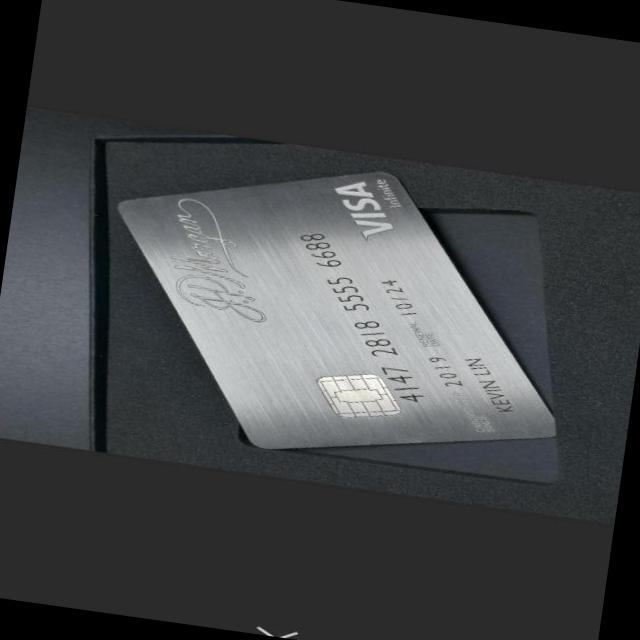card: (115, 163, 573, 451)
